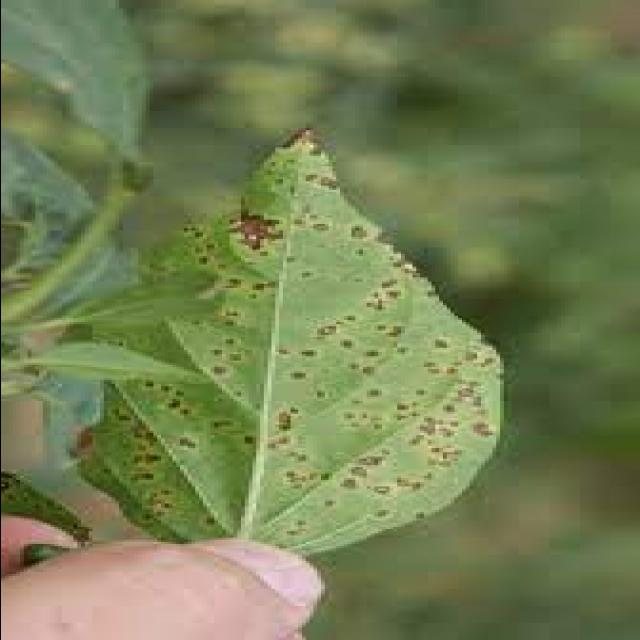bercak_daun: (118, 123, 504, 535)
